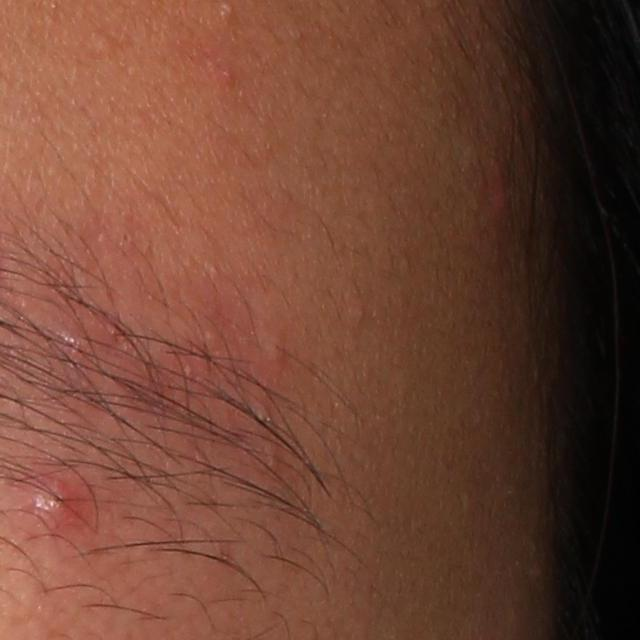comedo: (87, 29, 111, 55)
papule: (50, 318, 99, 364), (486, 179, 508, 216)
